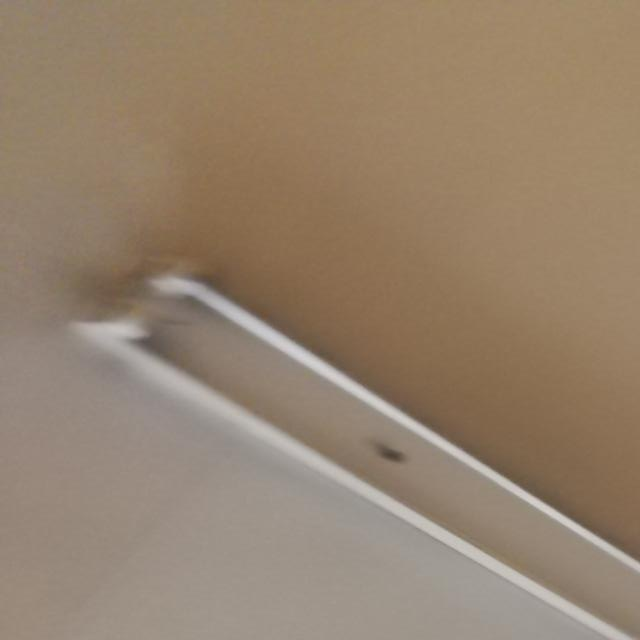fluorescent tube: (49, 222, 640, 640)
